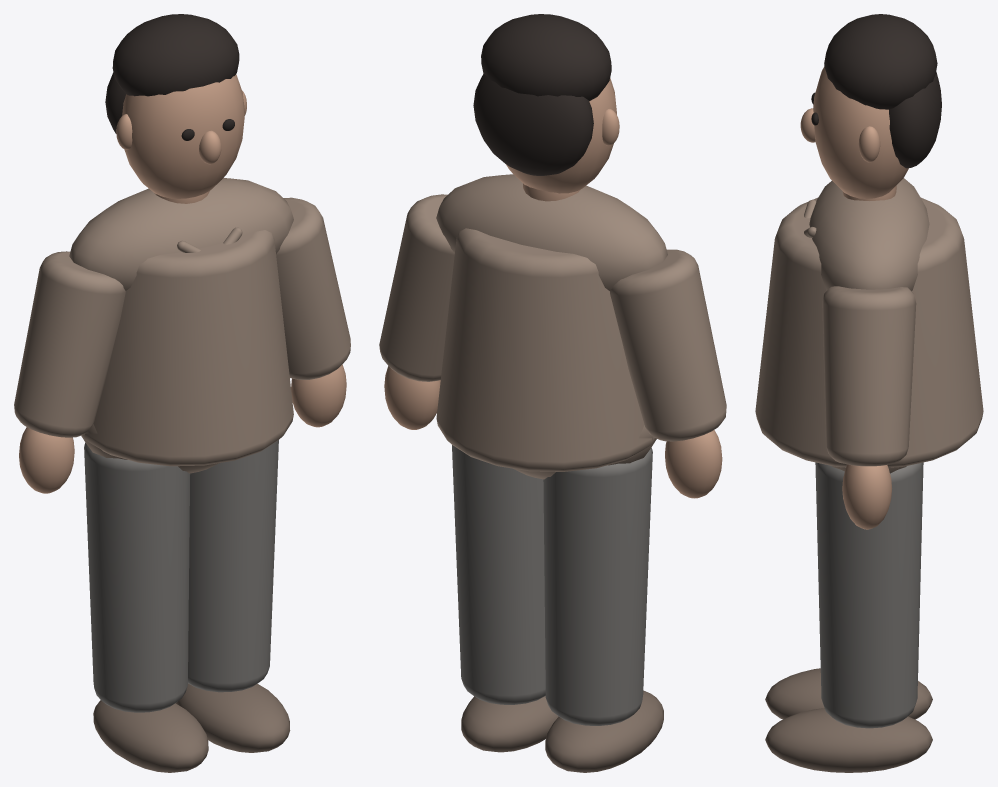
File: nam-di-chua.glb
3 renders of one model, left to right at view 1: azimuth 30°, elevation 25°; view 2: azimuth 150°, elevation 25°; view 3: azimuth 270°, elevation 25°, orthographic. The views are drawn at different scales.
Parts seen in each view (by area): view 1: Nam_than_ao, Nam_ong_quan, Nam_ong_quan.001, Nam_tay_ao, Nam_vai, Nam_dau, Nam_tay_ao.001, Nam_toc, Nam_dep, Nam_dep.001, Nam_ban_tay, Nam_ban_tay.001 (+2 smaller); view 2: Nam_than_ao, Nam_ong_quan, Nam_ong_quan.001, Nam_tay_ao, Nam_vai, Nam_tay_ao.001, Nam_toc, Nam_toc_sau, Nam_dep, Nam_dep.001, Nam_dau, Nam_ban_tay (+1 smaller); view 3: Nam_than_ao, Nam_ong_quan.001, Nam_tay_ao.001, Nam_vai, Nam_toc, Nam_dep.001, Nam_dau, Nam_toc_sau, Nam_ban_tay.001, Nam_dep, Nam_tai.001.
Boxes of the visible parts, x1,y1,x2,y2 form: Nam_than_ao: (81, 230, 293, 466); Nam_ong_quan: (84, 442, 190, 712); Nam_ong_quan.001: (188, 440, 278, 692); Nam_tay_ao: (14, 251, 125, 437); Nam_vai: (69, 178, 293, 290); Nam_dau: (122, 74, 244, 198); Nam_tay_ao.001: (276, 197, 350, 379); Nam_toc: (112, 14, 239, 96); Nam_dep: (93, 700, 208, 772); Nam_dep.001: (175, 683, 290, 752); Nam_ban_tay: (19, 427, 74, 493); Nam_ban_tay.001: (291, 364, 346, 427); Nam_than_ao: (436, 228, 656, 471); Nam_ong_quan: (543, 447, 652, 725); Nam_ong_quan.001: (452, 445, 545, 704); Nam_tay_ao: (610, 249, 726, 441); Nam_vai: (436, 174, 667, 290); Nam_tay_ao.001: (379, 194, 454, 381); Nam_toc: (481, 14, 611, 101); Nam_toc_sau: (473, 74, 593, 175); Nam_dep: (545, 690, 663, 772); Nam_dep.001: (461, 696, 558, 752); Nam_dau: (506, 78, 616, 193); Nam_ban_tay: (665, 430, 722, 498); Nam_than_ao: (755, 197, 983, 467); Nam_ong_quan.001: (815, 462, 923, 728); Nam_tay_ao.001: (822, 286, 916, 466); Nam_vai: (809, 178, 929, 291); Nam_toc: (824, 14, 937, 109); Nam_dep.001: (765, 708, 932, 772); Nam_dau: (813, 66, 908, 198); Nam_toc_sau: (889, 71, 941, 168); Nam_ban_tay.001: (842, 464, 892, 529); Nam_dep: (765, 668, 932, 719); Nam_tai.001: (858, 126, 880, 162).
Size of the model in its own units: 0.8386 by 1.76 by 0.5029.
